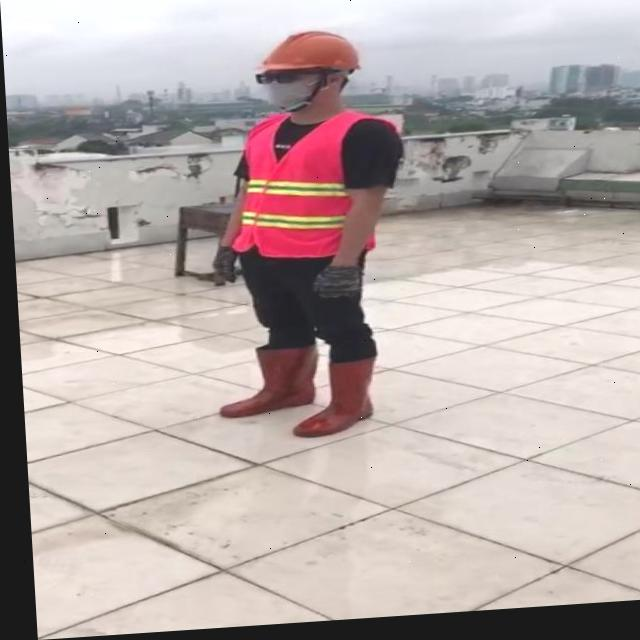Gloves: (308, 266, 362, 306), (209, 247, 236, 288)
Helmet: (252, 32, 361, 86)
Safety-Boot: (212, 343, 318, 421), (284, 358, 375, 442)
Safety-Vest: (223, 109, 400, 267)
